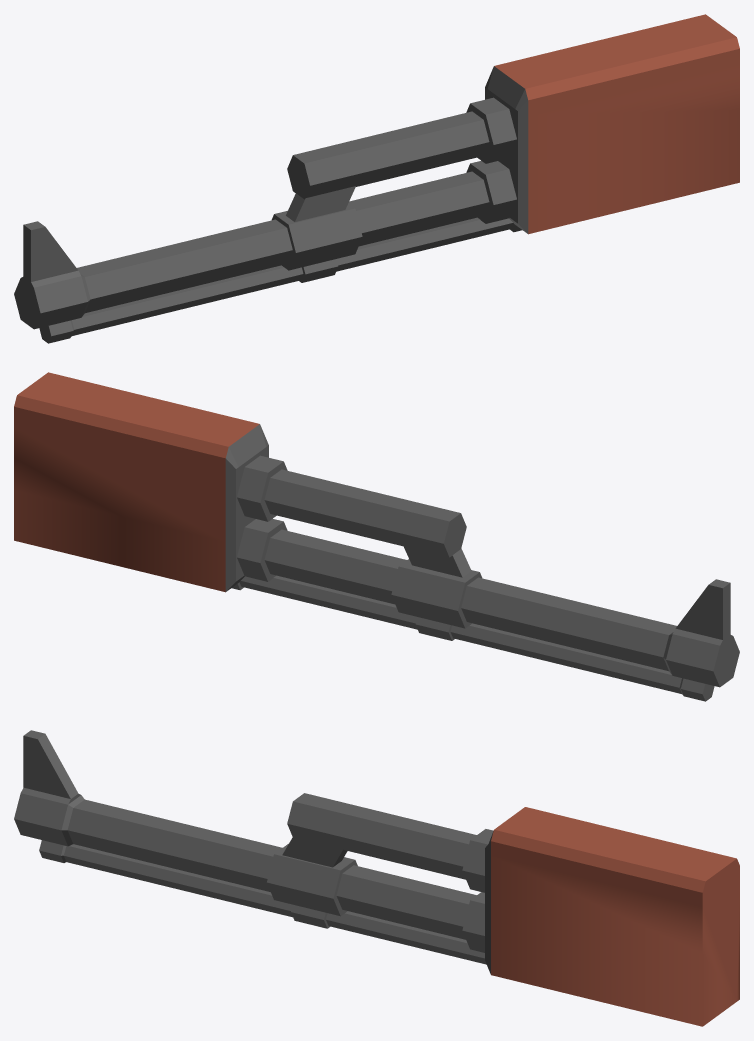
The picture shows the model from 3 angles, top to bottom: view 1: azimuth 30°, elevation 25°; view 2: azimuth 150°, elevation 25°; view 3: azimuth 330°, elevation 25°; orthographic projection.
Visible parts, largest first — view 1: Cube; view 2: Cube; view 3: Cube.
Part boxes in pixels (<box>): Cube: <box>14,14,739,343</box>; Cube: <box>14,372,739,701</box>; Cube: <box>14,730,739,1026</box>.
Size of the model in its own units: 2561 by 537 by 238.
